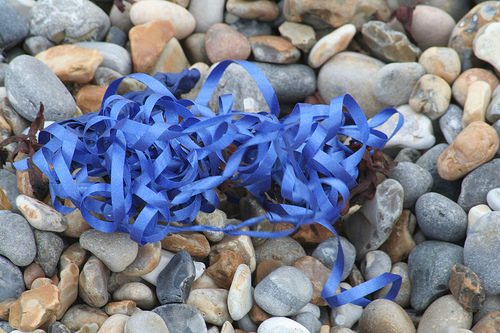litter: (12, 56, 407, 308)
